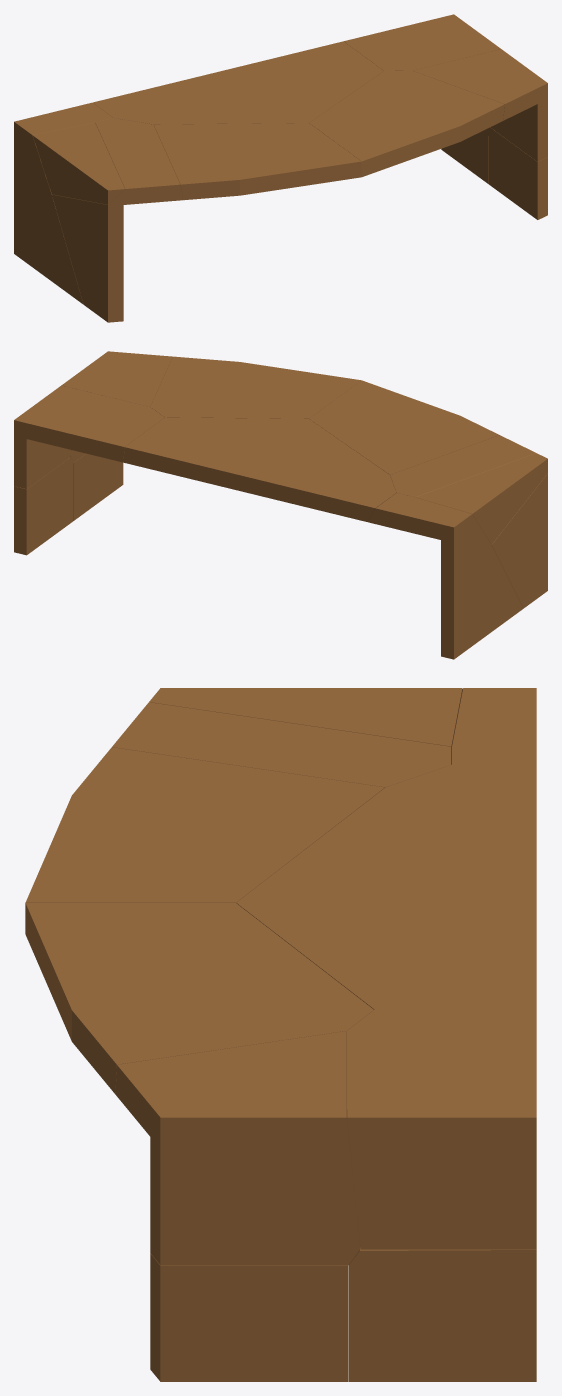
The model's file is DeskShatter.fbx.
The picture shows the model from 3 angles, top to bottom: view 1: azimuth 30°, elevation 25°; view 2: azimuth 150°, elevation 25°; view 3: azimuth 270°, elevation 25°; orthographic projection. The views are drawn at different scales.
Visible parts, largest first — view 1: Cube_cell.004, Cube_cell.003, Cube_cell.008, Cube_cell.006, Cube_cell.007, Cube_cell.009, Cube_cell, Cube_cell.001, Cube_cell.005, Cube_cell.002; view 2: Cube_cell.004, Cube_cell.007, Cube_cell.008, Cube_cell.003, Cube_cell, Cube_cell.006, Cube_cell.001, Cube_cell.002, Cube_cell.009, Cube_cell.005; view 3: Cube_cell.004, Cube_cell.009, Cube_cell, Cube_cell.008, Cube_cell.003, Cube_cell.002, Cube_cell.005, Cube_cell.006, Cube_cell.001, Cube_cell.007.
Part boxes in pixels (x1,y1,x2,y2): Cube_cell.004: (93,41,383,124); Cube_cell.003: (154,123,361,200); Cube_cell.008: (309,70,504,176); Cube_cell.006: (52,118,182,322); Cube_cell.007: (14,102,112,304); Cube_cell.009: (413,49,547,161); Cube_cell: (344,14,500,70); Cube_cell.001: (32,122,124,204); Cube_cell.005: (488,127,547,219); Cube_cell.002: (441,128,488,183); Cube_cell.004: (123,417,396,521); Cube_cell.007: (368,493,523,659); Cube_cell.008: (150,356,361,418); Cube_cell.003: (309,380,499,474); Cube_cell: (14,385,164,489); Cube_cell.006: (390,435,547,608); Cube_cell.001: (416,453,547,544); Cube_cell.002: (14,457,73,555); Cube_cell.009: (61,351,172,462); Cube_cell.005: (73,453,123,520); Cube_cell.004: (236,764,536,1009); Cube_cell.009: (115,1031,360,1265); Cube_cell: (347,1009,536,1249); Cube_cell.008: (25,903,373,1094); Cube_cell.003: (25,747,384,933); Cube_cell.002: (348,1248,536,1381); Cube_cell.005: (150,1253,348,1381); Cube_cell.006: (112,702,451,787); Cube_cell.001: (149,688,462,746); Cube_cell.007: (451,688,536,764).
Size of the model in its own units: 453 by 130 by 228.
